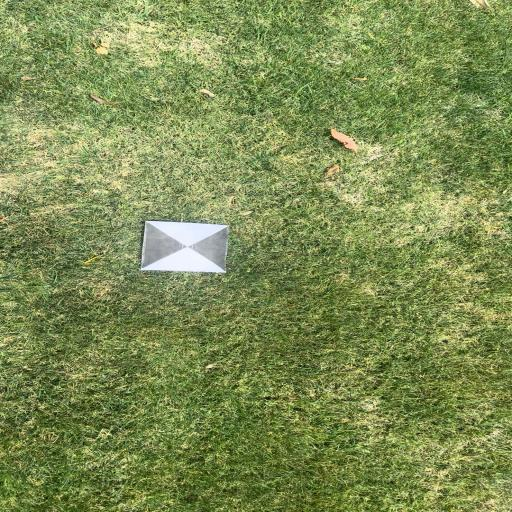target: (141, 220, 231, 273)
